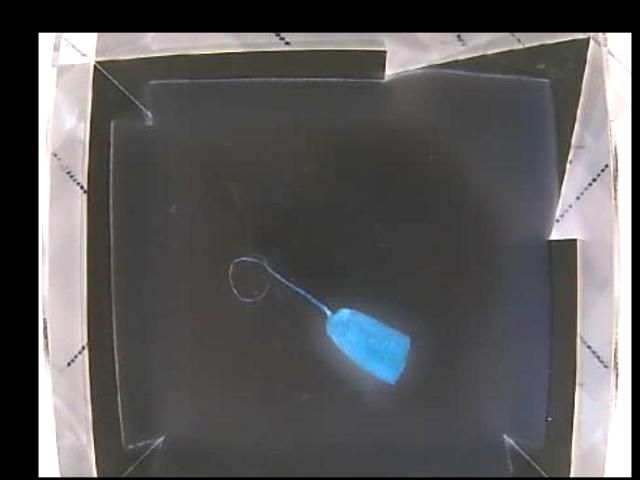Carrot: (322, 303, 412, 385)
